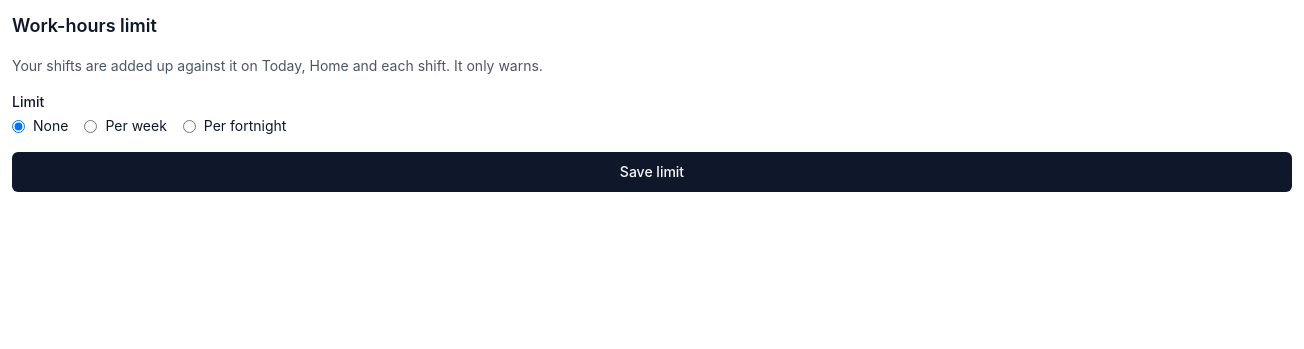
it: HoursCapForm (#53) › sends a week of 40 hours as 2400 minutes
The image size is (1304, 349).
Click the radio button labelled "Per week". click: [91, 126]
box: [84, 120, 97, 132]
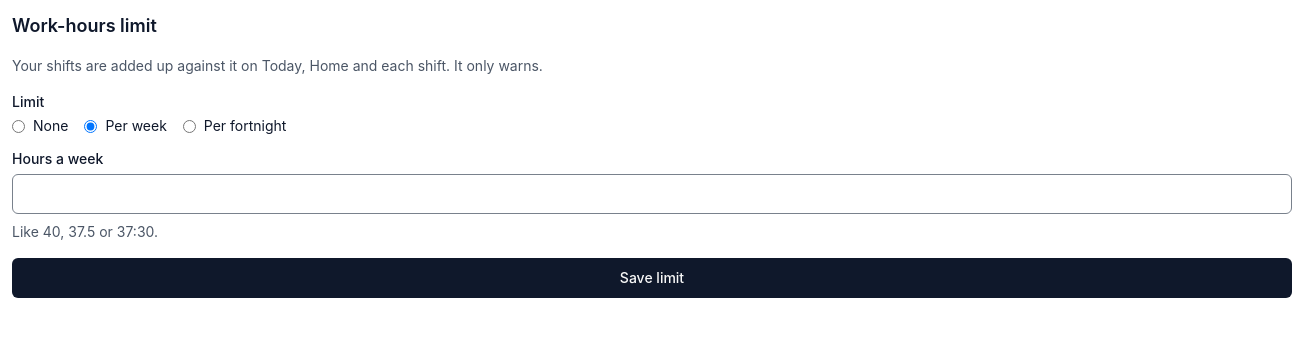
Type "40" into the field labelled "Hours a week". click: [652, 194]
box: [12, 174, 1292, 214]
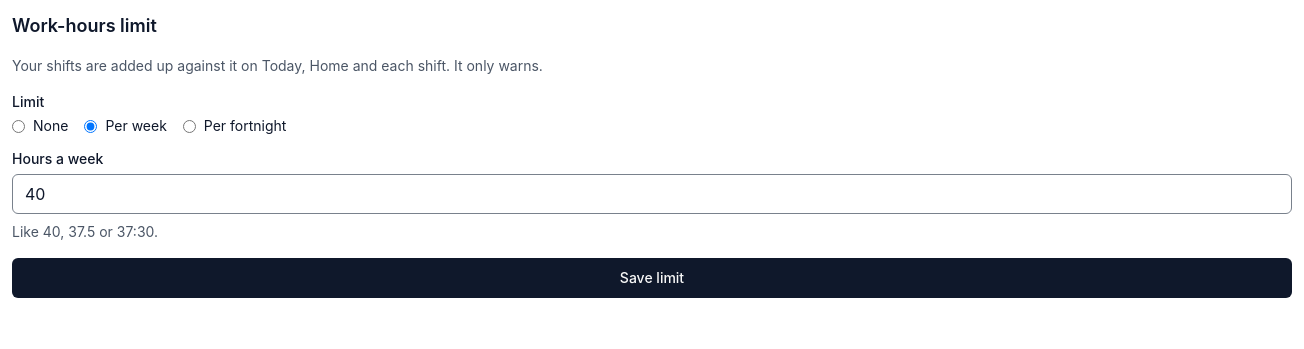
Click the button "Save limit". click: [652, 278]
box: [12, 258, 1292, 298]
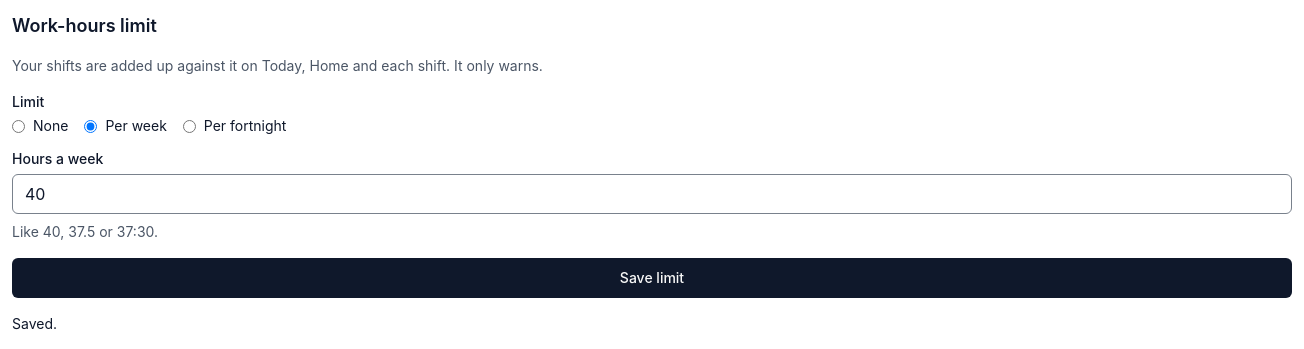
Expected: the text "Saved." is shown, [12, 315, 57, 332]
